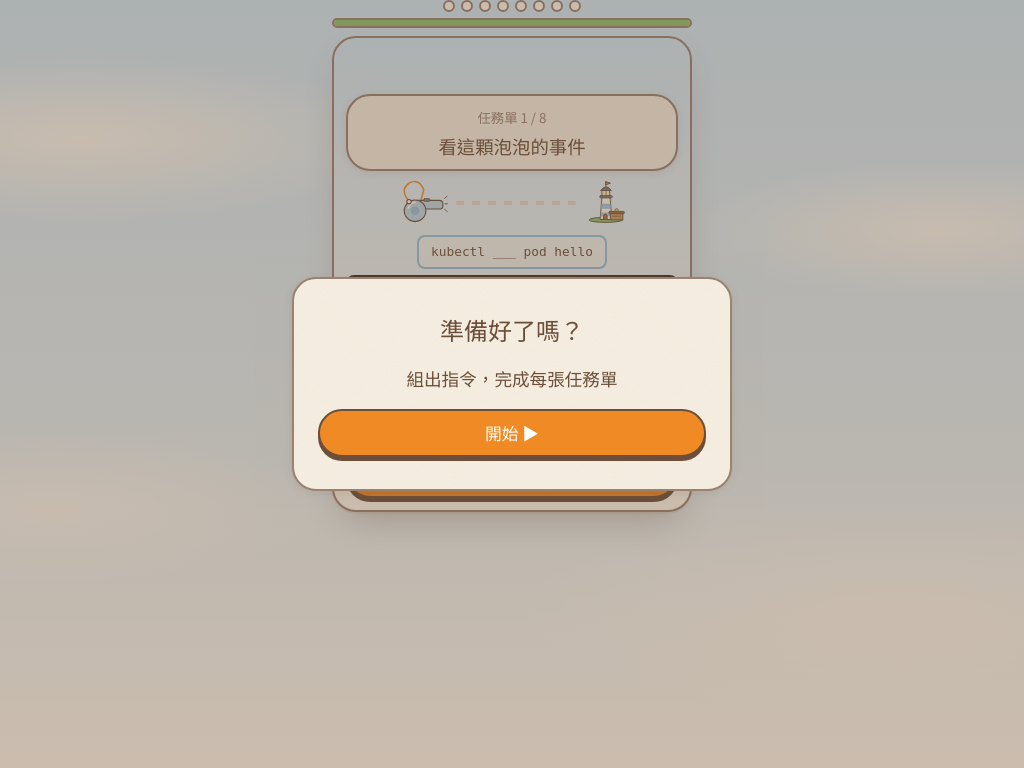
Test: Day05Game › 需要旗標卻沒加，會回真實輸出且不前進
This screenshot has width=1024, height=768.
What coordinates should you click on to do the following:
click the button with test id "shell-start"
I would click on:
 (512, 433)
Its box is [318,409,706,457].
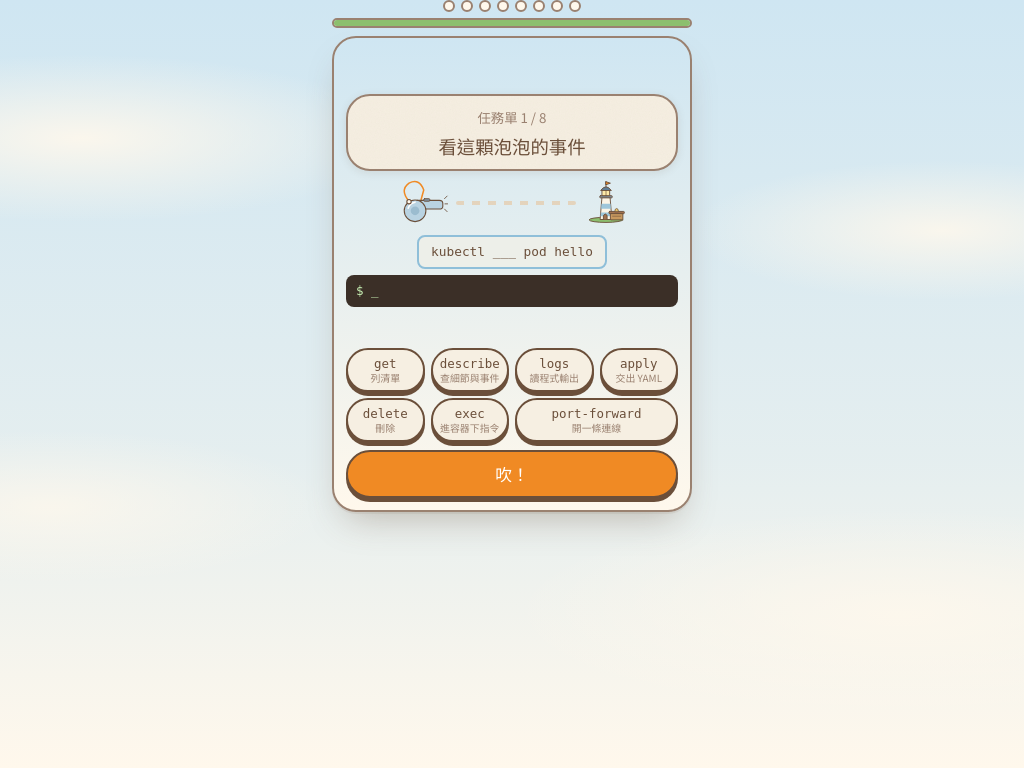
What coordinates should you click on to do the following:
click the button "describe 查細節與事件"
I would click on:
 (470, 370)
Its box is [430,348,509,392].
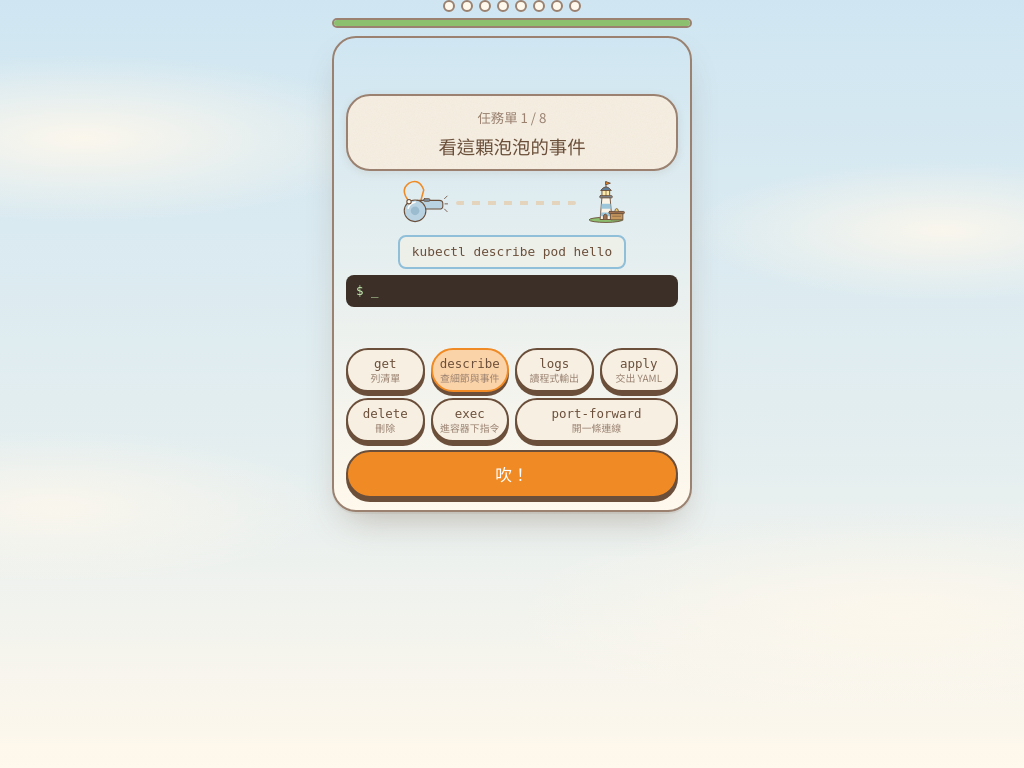
What coordinates should you click on to do the following:
click the button with test id "blow"
I would click on:
 (512, 474)
Its box is [346,450,678,498].
Wait 900 ms
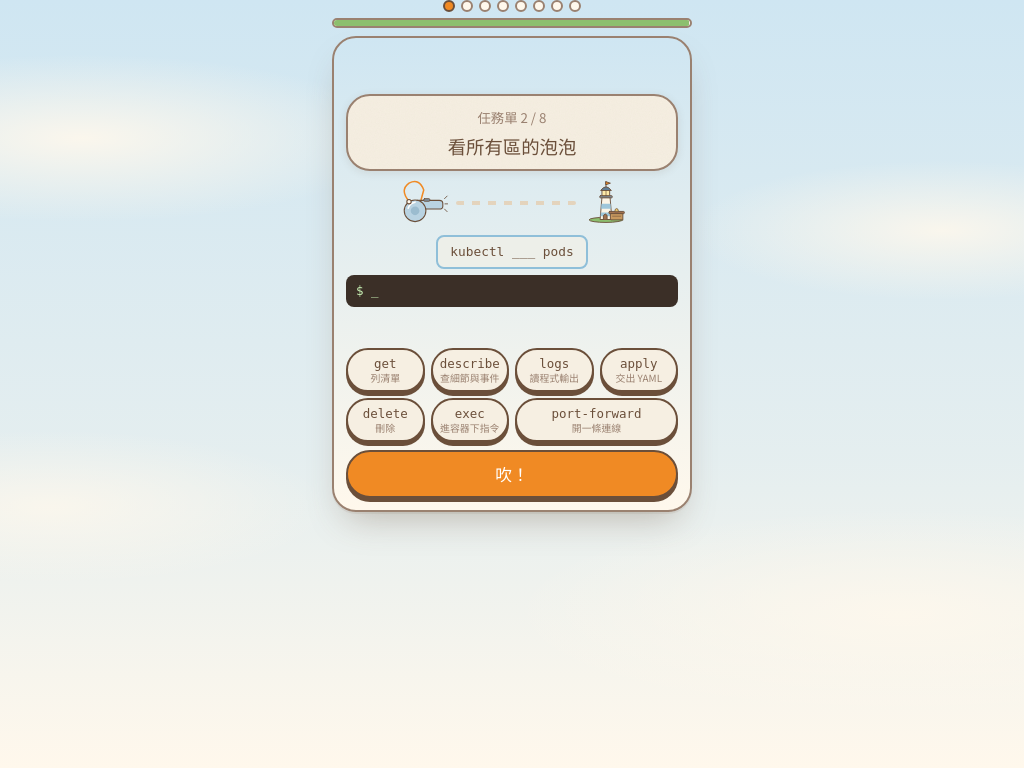
What coordinates should you click on to do the following:
click the button "get 列清單"
I would click on:
 (385, 370)
Its box is [346,348,424,392].
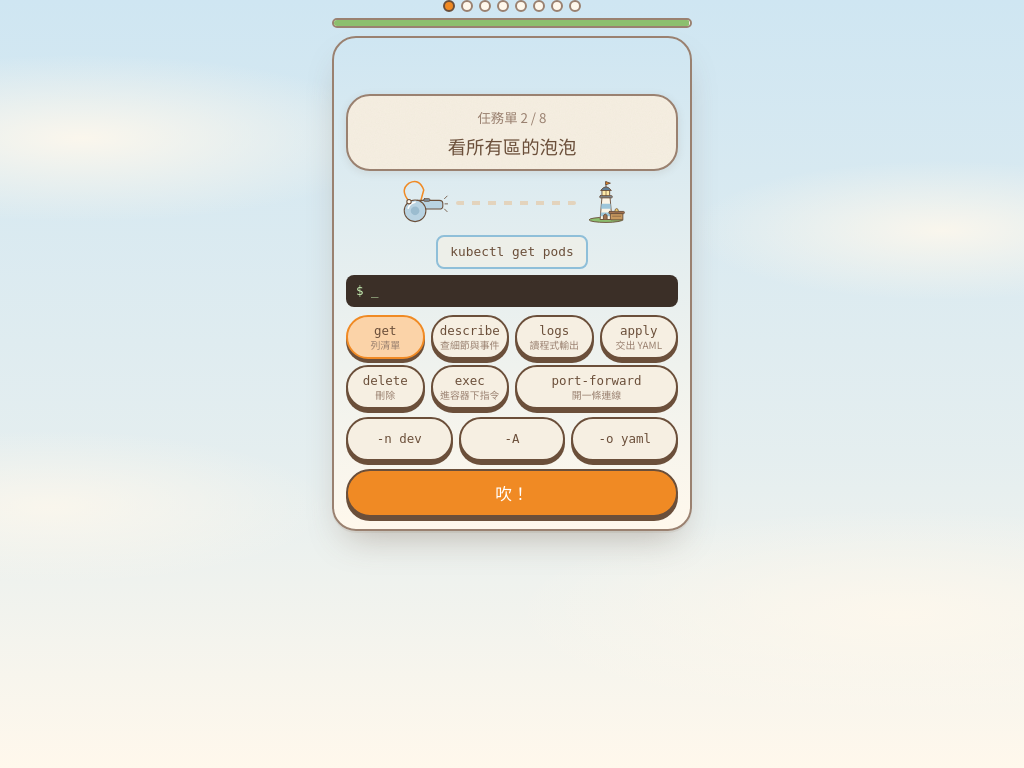
What coordinates should you click on to do the following:
click the button with test id "blow"
I would click on:
 (512, 493)
Its box is [346,469,678,517].
Wait 900 ms
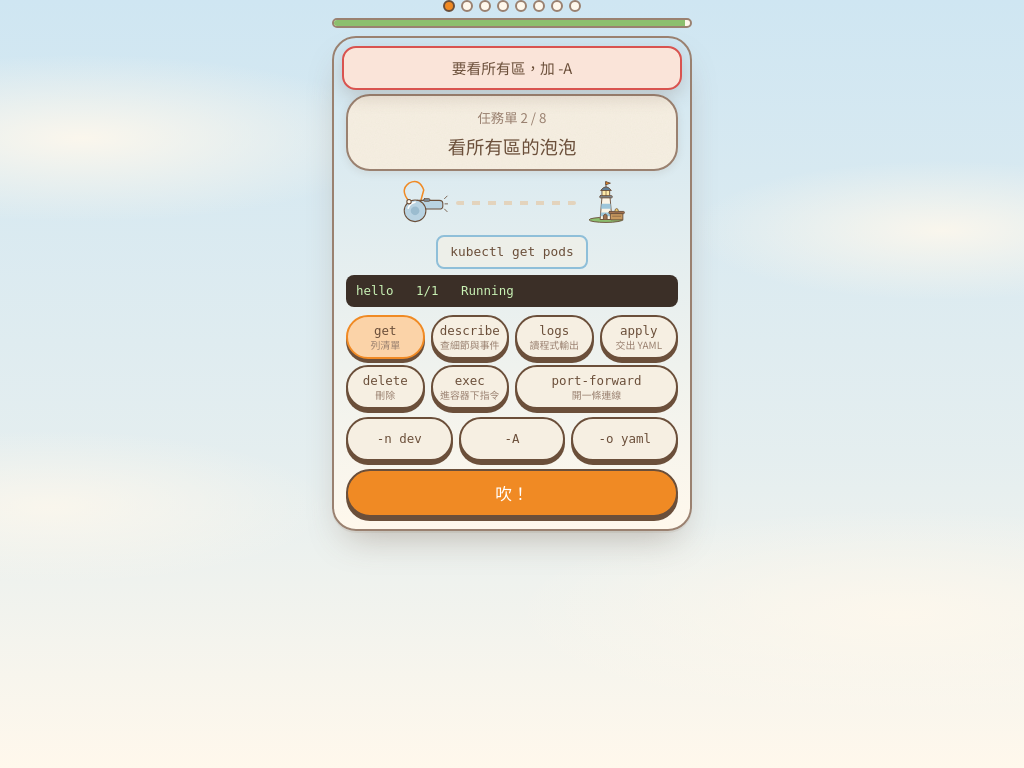
Check: the number of icons with test id "shell-dot" is 1, box [443,0,455,12]
Check: the text with test id "terminal" shows "hello", box [356,283,514,298]
Check: the message "要看所有區，加 -A" is shown, box [342,46,682,90]
